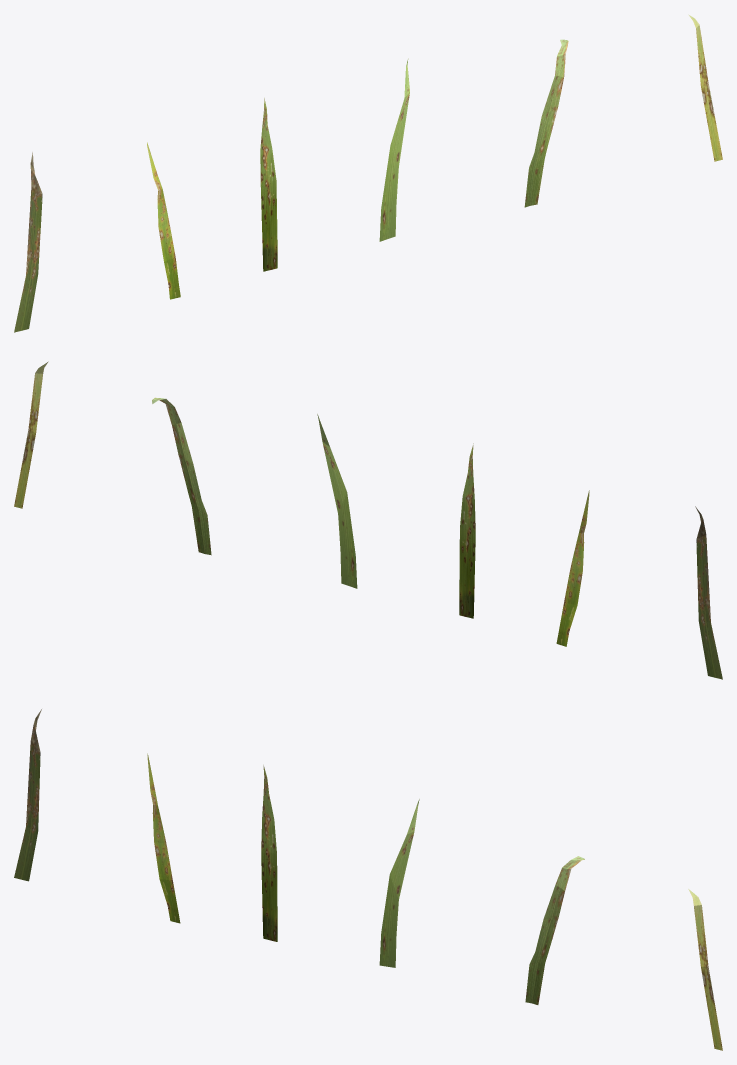
The model's file is pyri.fbx.
3 views of the same model, one above another, from view 1: azimuth 30°, elevation 25°; view 2: azimuth 150°, elevation 25°; view 3: azimuth 330°, elevation 25° (orthographic).
Parts seen in each view (by area): view 1: pyri3.001, pyri5.001, pyri1.001, pyri4.001, pyri6.001, pyri2.001; view 2: pyri3.001, pyri5.001, pyri4.001, pyri1.001, pyri6.001, pyri2.001, pyri2; view 3: pyri3.001, pyri5.001, pyri4.001, pyri1.001, pyri6.001, pyri2.001.
Boxes of the visible parts, x1,y1,x2,y2 form: pyri3.001: (260, 98, 277, 251); pyri5.001: (526, 39, 568, 187); pyri1.001: (18, 152, 42, 314); pyri4.001: (380, 58, 409, 221); pyri6.001: (688, 14, 719, 146); pyri2.001: (147, 142, 175, 261); pyri3.001: (459, 443, 475, 598); pyri5.001: (152, 397, 209, 535); pyri4.001: (317, 414, 356, 568); pyri1.001: (695, 506, 718, 661); pyri6.001: (17, 361, 48, 493); pyri2.001: (564, 490, 589, 605); pyri2: (556, 602, 577, 646); pyri3.001: (261, 765, 277, 920); pyri5.001: (527, 856, 584, 984); pyri4.001: (380, 799, 419, 948); pyri1.001: (18, 709, 41, 865); pyri6.001: (688, 889, 719, 1034); pyri2.001: (147, 753, 172, 880).
Size of the model in its own units: 424 by 103 by 14.44.
Materials: 6 (6 with a texture image).
